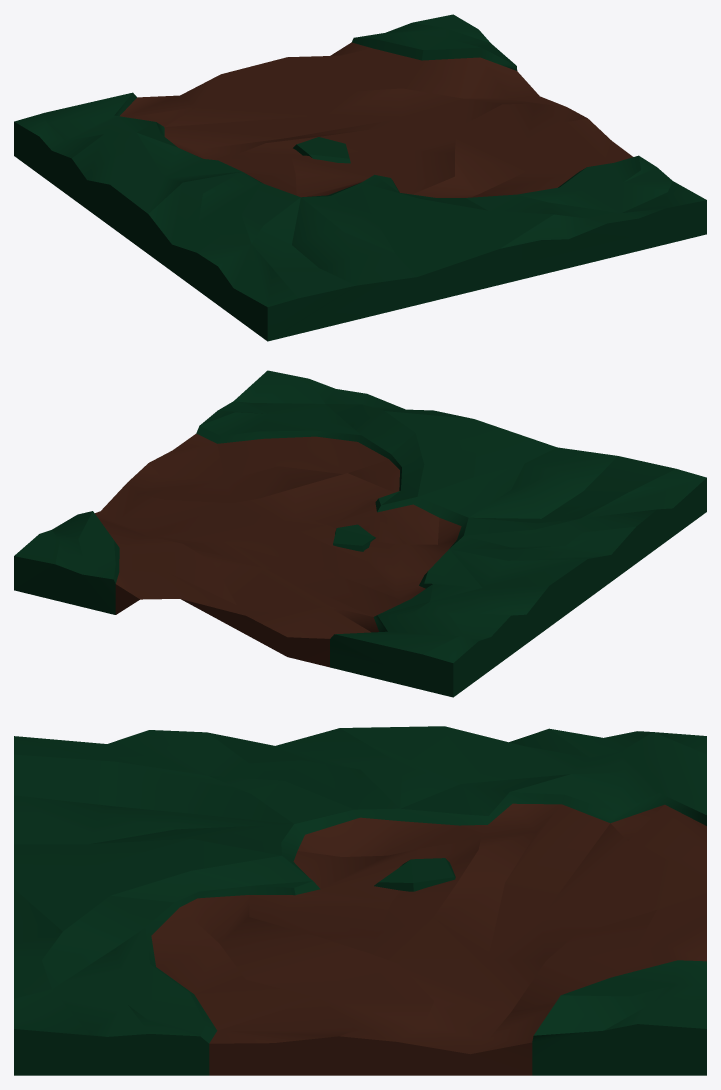
Rendered from Ground_Path_Turn_LB.fbx.
The picture shows the model from 3 angles, top to bottom: view 1: azimuth 30°, elevation 25°; view 2: azimuth 150°, elevation 25°; view 3: azimuth 270°, elevation 25°; orthographic projection. The views are drawn at different scales.
Visible parts, largest first — view 1: Ground_Path_Turn_LB; view 2: Ground_Path_Turn_LB; view 3: Ground_Path_Turn_LB.
Boxes of the visible parts, x1,y1,x2,y2 form: Ground_Path_Turn_LB: [14, 14, 706, 341]; Ground_Path_Turn_LB: [14, 370, 706, 697]; Ground_Path_Turn_LB: [14, 726, 706, 1075].
Size of the model in its own units: 147 by 14.83 by 147.
